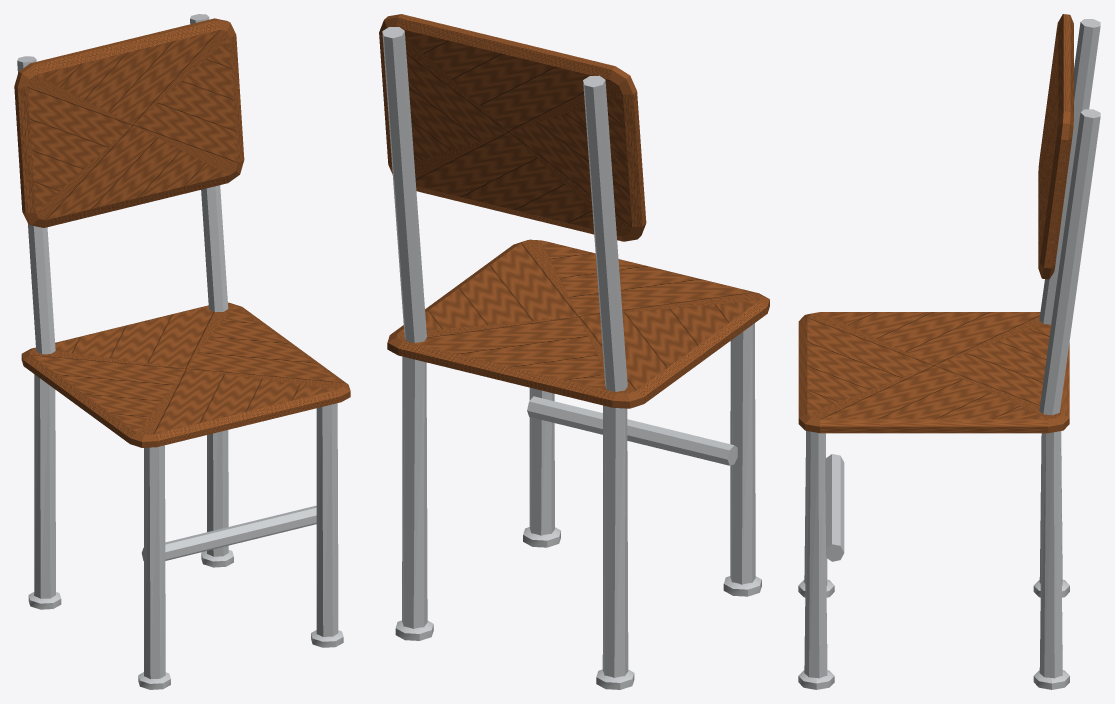
Rendered from student-chair.glb.
3 views of the same model, side by side, from view 1: azimuth 30°, elevation 25°; view 2: azimuth 150°, elevation 25°; view 3: azimuth 270°, elevation 25° (orthographic). The views are drawn at different scales.
Parts seen in each view (by area): view 1: student-chair; view 2: student-chair; view 3: student-chair.
Boxes of the visible parts, x1=… form: student-chair: x1=14, y1=14, x2=350, y2=689; student-chair: x1=379, y1=14, x2=769, y2=689; student-chair: x1=798, y1=14, x2=1100, y2=689.
Bounding box in the file's own units: 0.38 × 0.8883 × 0.4239.
Materials: 2 (1 with a texture image).
